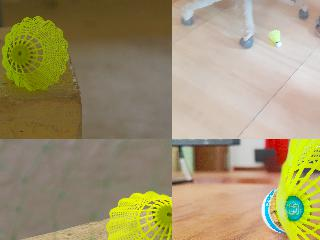shuttlecock: (260, 139, 319, 239), (2, 16, 68, 90), (106, 190, 171, 239), (267, 30, 281, 46)
